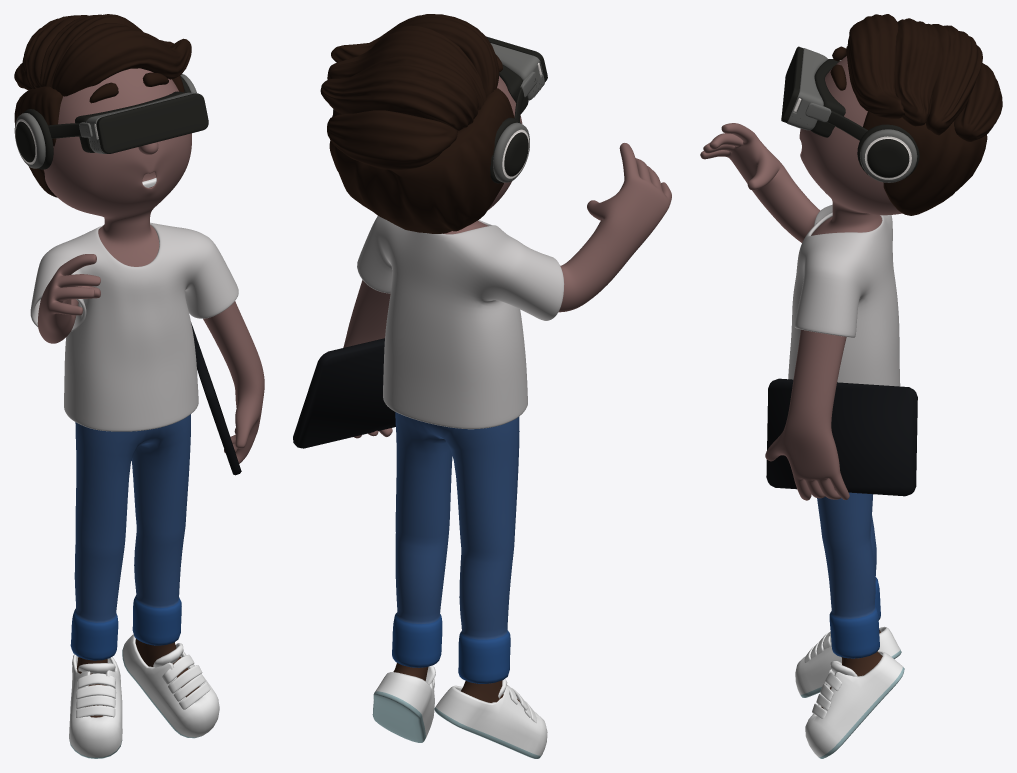
The model's file is gamer-min.gltf.
3 views of the same model, side by side, from view 1: azimuth 30°, elevation 25°; view 2: azimuth 150°, elevation 25°; view 3: azimuth 270°, elevation 25° (orthographic). The views are drawn at different scales.
Parts seen in each view (by area): view 1: T-shirt, LEGS_1, body, SHOES_1, Hair_6a, VR_Screen, Hair_6b, 22 iPad (pose 22).001, Eyebrow.004; view 2: T-shirt, LEGS_1, Hair_6a, Hair_6b, body, SHOES_1, 22 iPad (pose 22).001, VR_Screen; view 3: body, Hair_6a, T-shirt, 22 iPad (pose 22).001, LEGS_1, SHOES_1, VR_Screen, Hair_6b.
Boxes of the visible parts, box(x1,y1,x2,y2) form: T-shirt: box(30, 222, 238, 431); LEGS_1: box(70, 414, 198, 717); body: box(37, 68, 264, 463); SHOES_1: box(69, 634, 219, 758); Hair_6a: box(14, 14, 191, 96); VR_Screen: box(14, 74, 208, 169); Hair_6b: box(14, 76, 184, 197); 22 iPad (pose 22).001: box(191, 322, 241, 475); Eyebrow.004: box(89, 72, 168, 103); T-shirt: box(357, 216, 564, 429); LEGS_1: box(392, 412, 519, 702); Hair_6a: box(320, 14, 499, 169); Hair_6b: box(329, 88, 514, 233); body: box(343, 76, 671, 438); SHOES_1: box(372, 665, 547, 758); 22 iPad (pose 22).001: box(293, 338, 395, 448); VR_Screen: box(333, 36, 547, 183); body: box(700, 56, 902, 500); Hair_6a: box(846, 14, 1002, 141); T-shirt: box(788, 204, 900, 386); 22 iPad (pose 22).001: box(766, 378, 917, 496); LEGS_1: box(817, 492, 882, 708); SHOES_1: box(795, 626, 904, 758); VR_Screen: box(781, 46, 919, 182); Hair_6b: box(863, 111, 987, 215).
Size of the model in its own units: 8.35 by 21.76 by 8.44.
